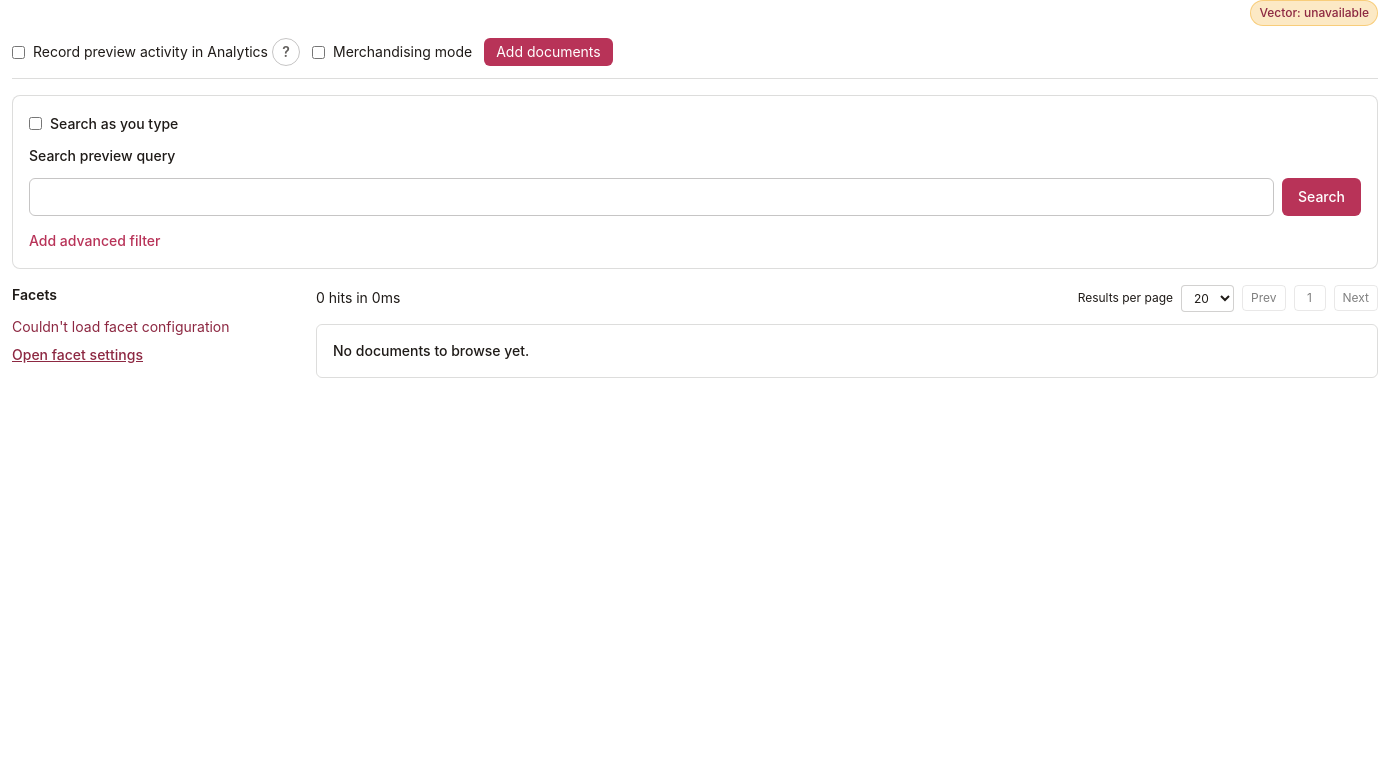
InstantSearch › uses a conventional subtitle field in the compact preview card
Type "bottle" into the search field labelled "Search preview query". click: (652, 196)
box: [29, 178, 1274, 216]
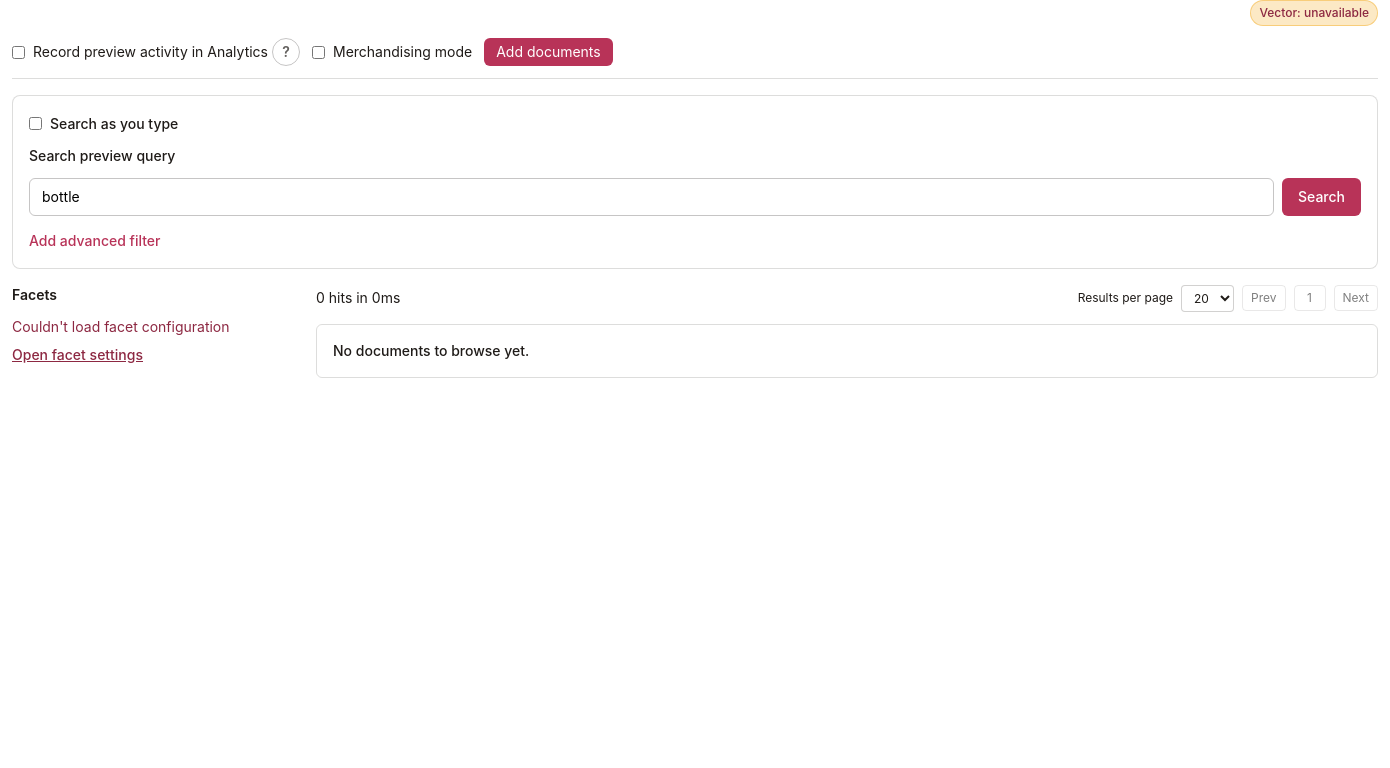
Press Enter in the search field labelled "Search preview query", box [29, 178, 1274, 216]
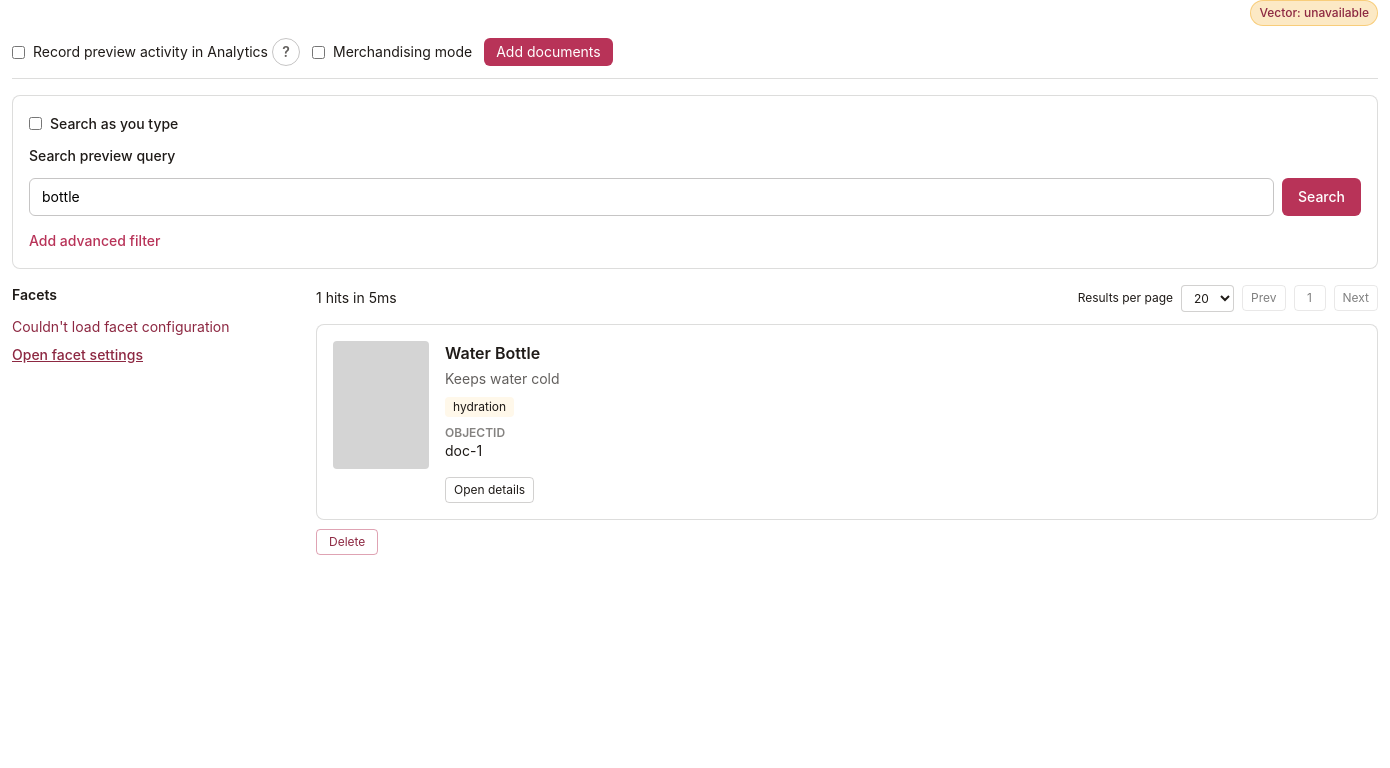
expect the text with test id "document-card-subtitle" reads "Keeps water cold": met, box [445, 370, 560, 386]
expect the text with test id "document-card-tag" reads "hydration": met, box [453, 398, 506, 414]
